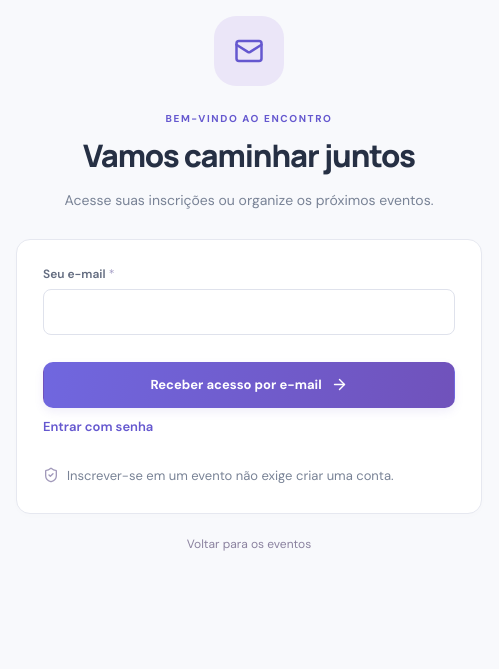
Test: Limites de envio no login › não atribui outros erros de envio a um limite do serviço
Type "teste@example.com" into the field labelled "Seu e-mail *" at coordinates (249, 312), box [43,288,455,334]
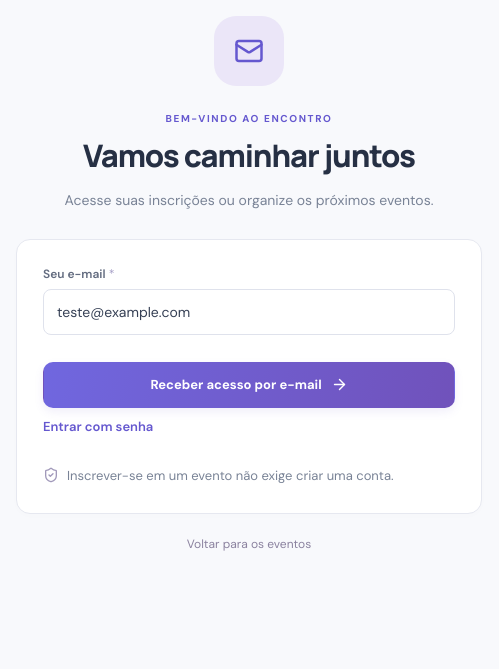
Click the button "Receber acesso por e-mail" at coordinates (249, 384), box [43,362,455,408]
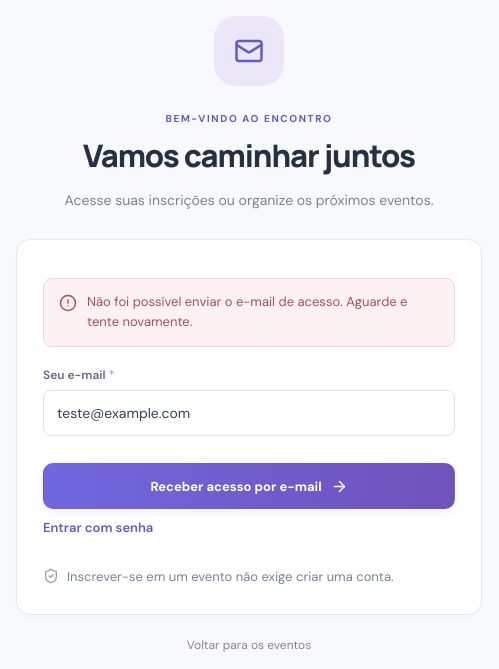
Check: the button "Receber acesso por e-mail" is enabled, box [43,463,455,509]
Check: the text "Não foi possível enviar o e-mail de acesso" is shown, box [87,292,408,330]
